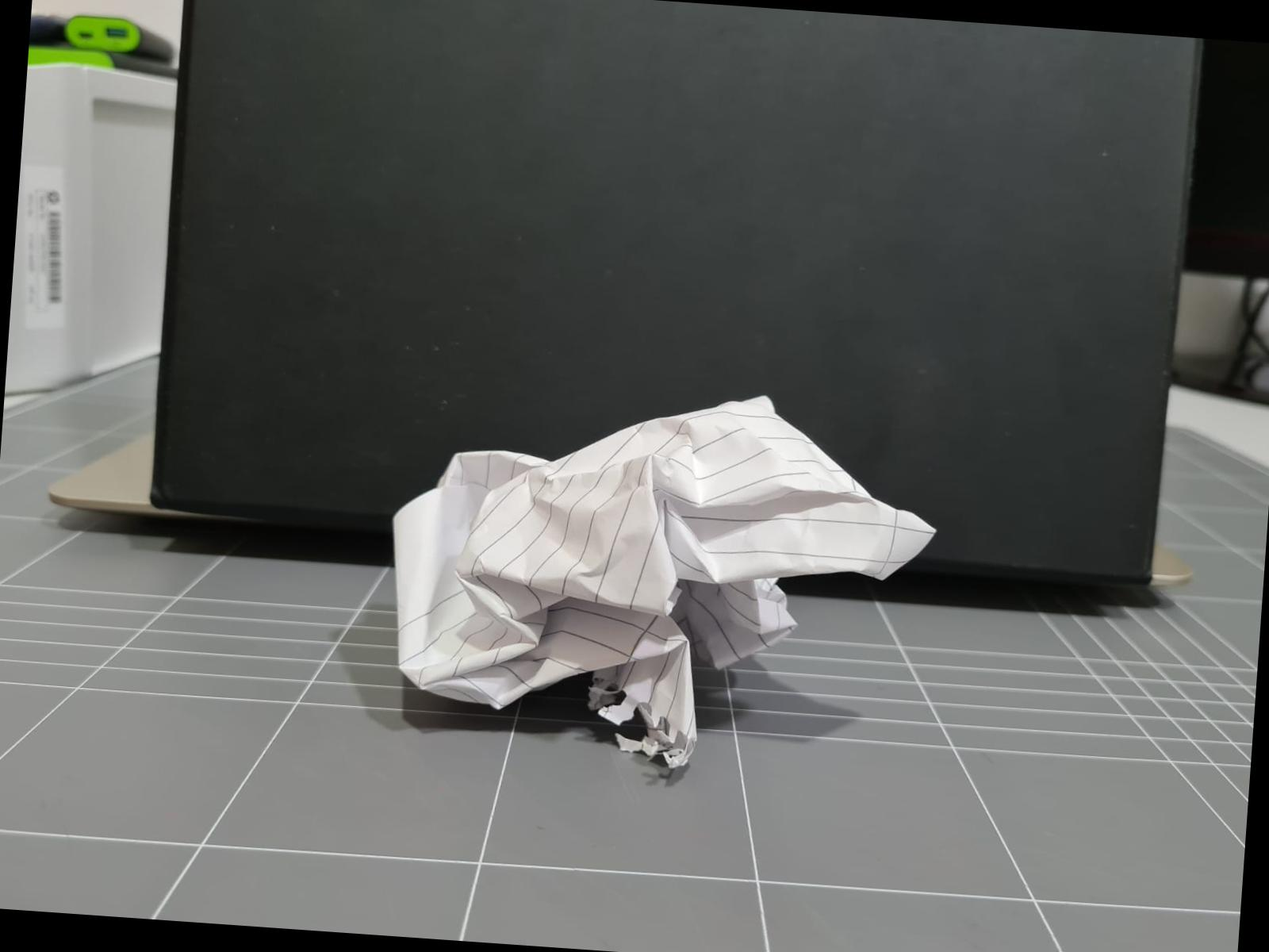Kertas: (386, 391, 962, 786)
